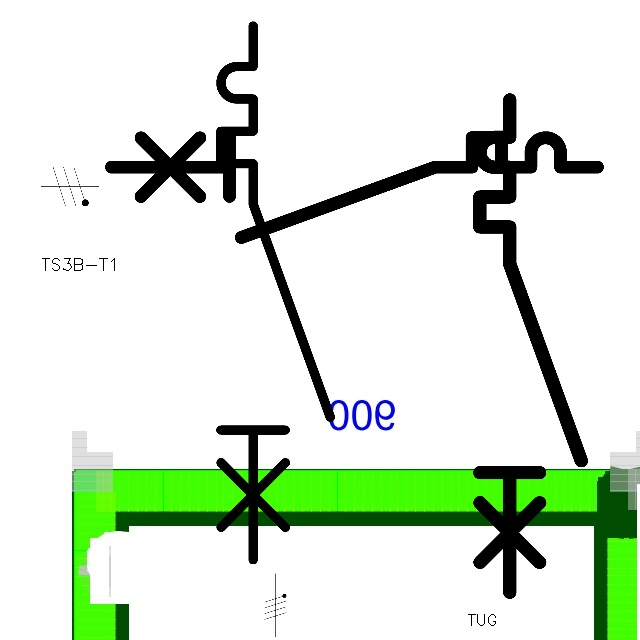interruptor_termomagnetico: (207, 12, 344, 573), (467, 87, 594, 605), (98, 125, 609, 250)
